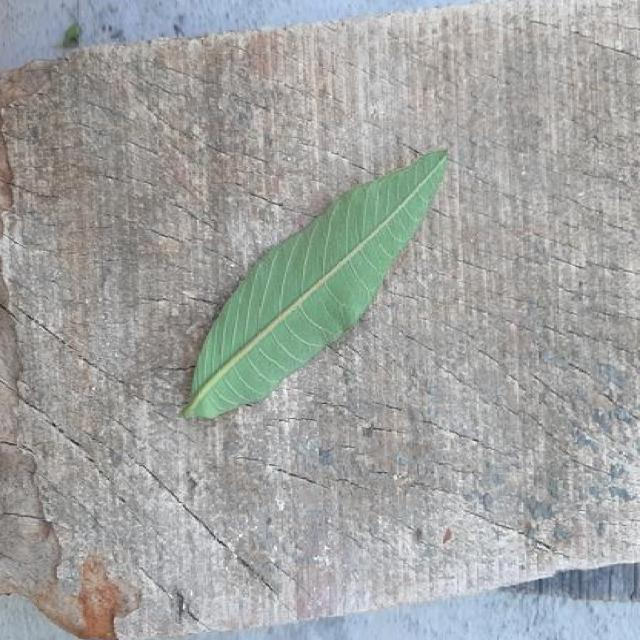leaf: (179, 146, 448, 424)
